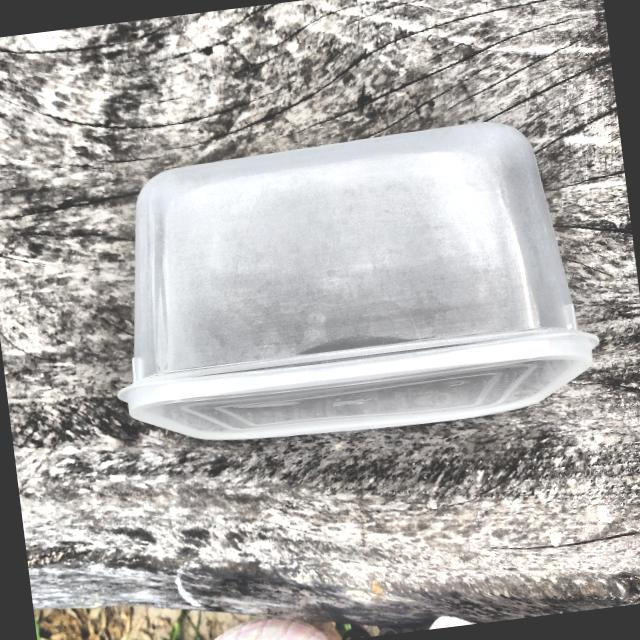plastic container: (92, 95, 600, 466)
